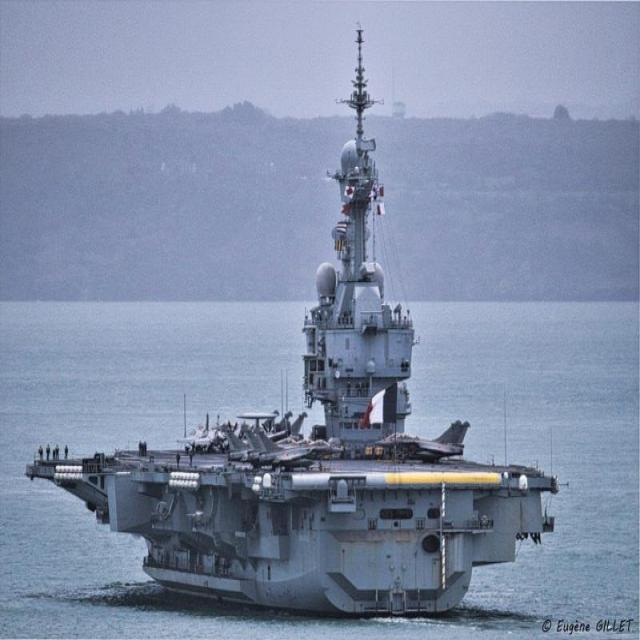Portanaves: (23, 22, 563, 621)
